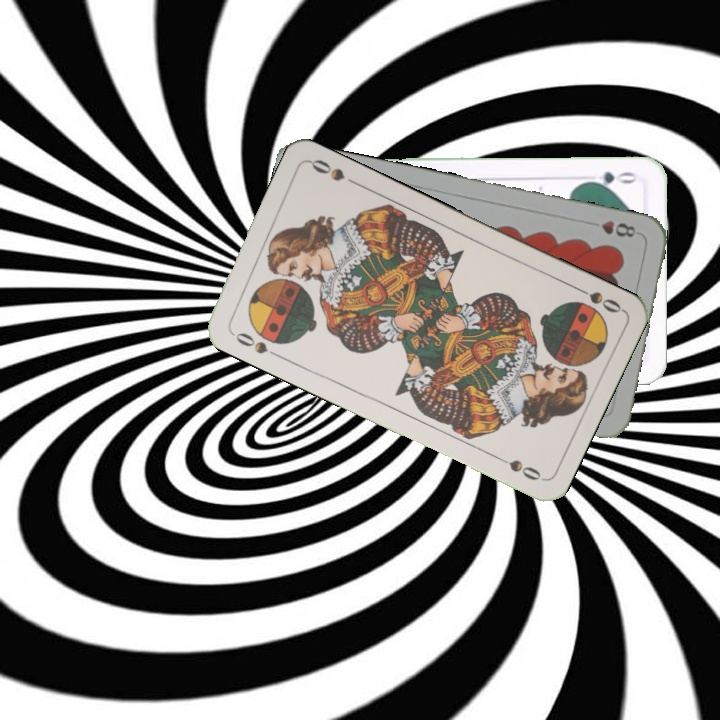GO: (582, 167, 639, 190)
H8: (597, 216, 639, 240)
SO: (569, 281, 624, 316), (226, 326, 271, 357)
